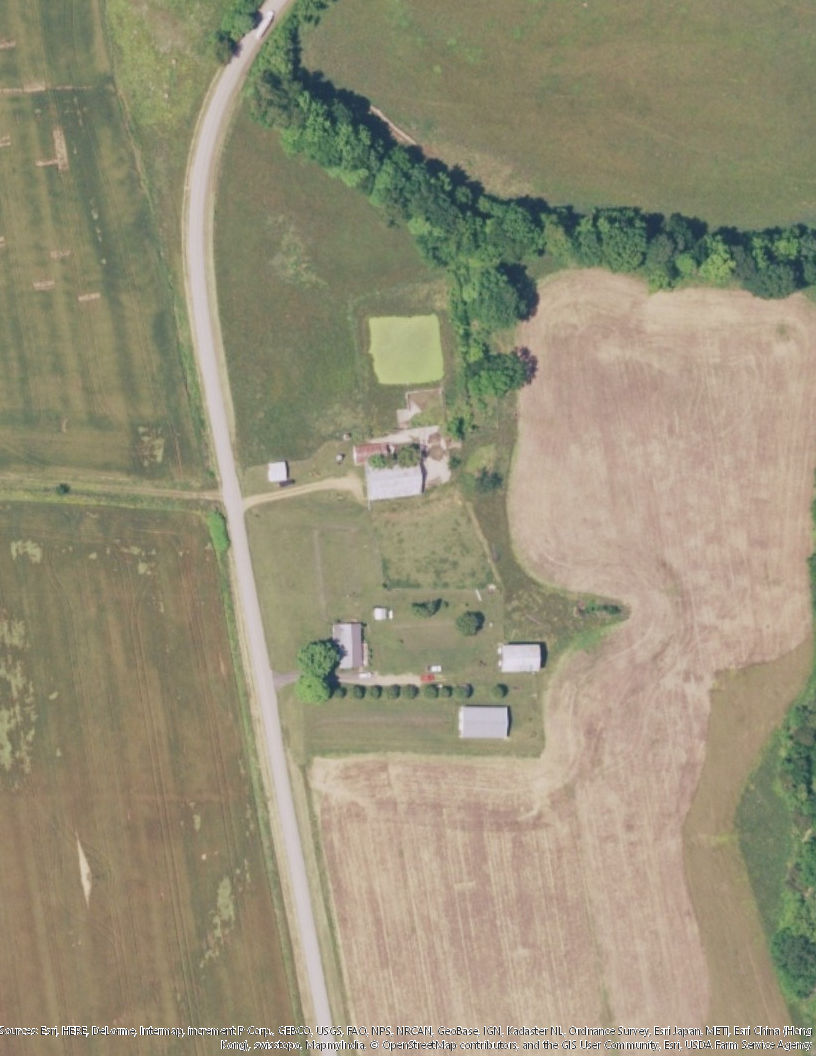cafo: (349, 440, 431, 497)
